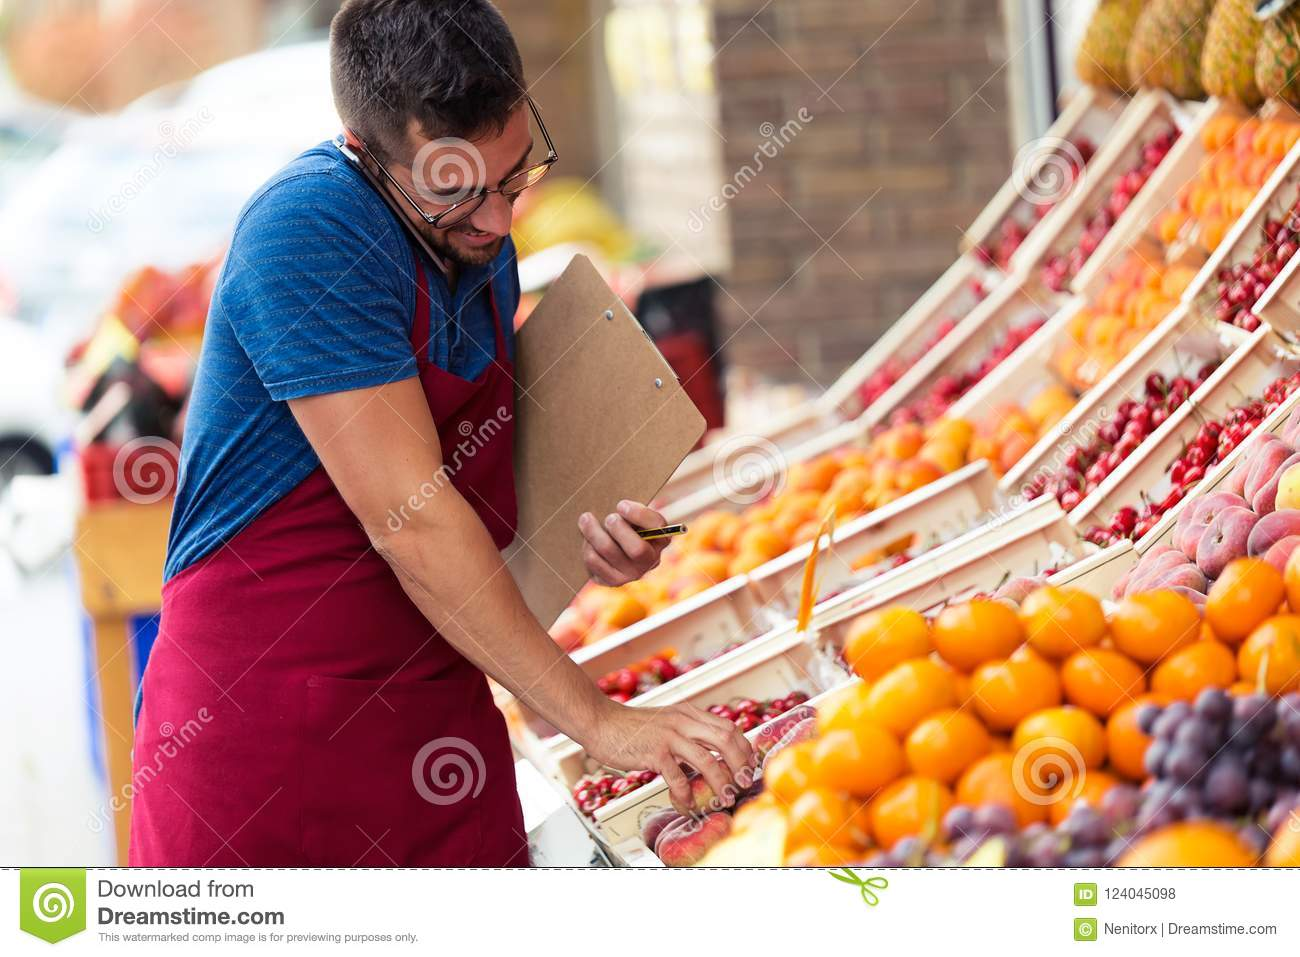phone: (348, 139, 458, 291)
talk: (334, 120, 542, 294)
